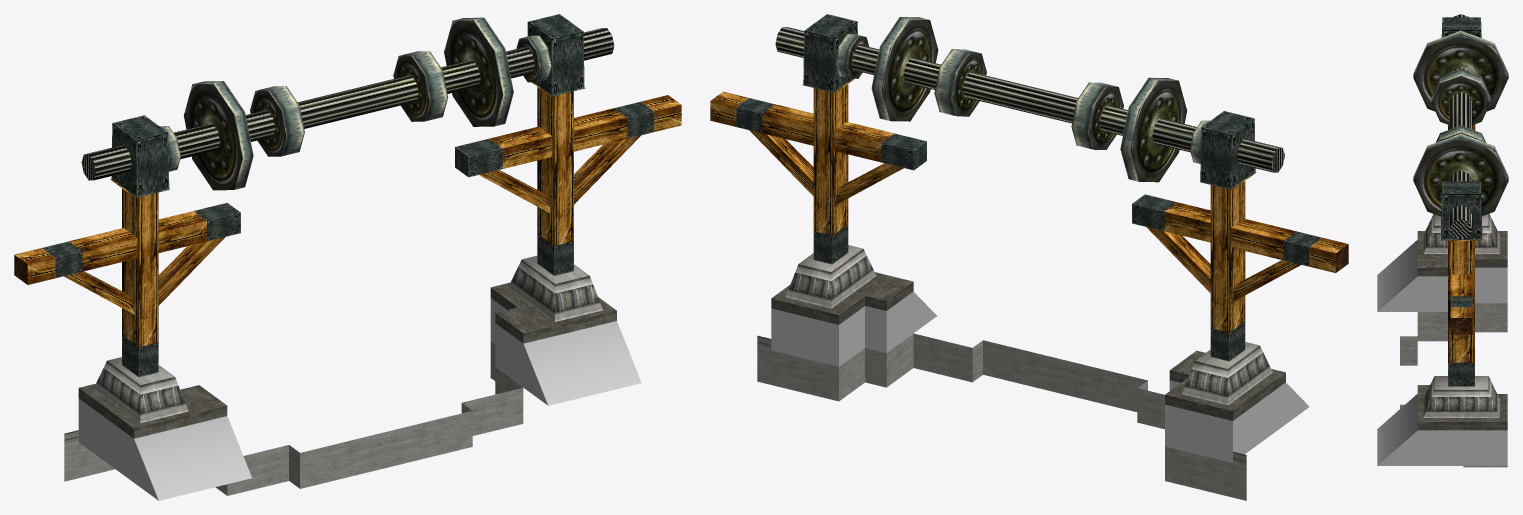
File: DWARF_PALACE_FORGE_STAIRSD.obj
3 views of the same model, side by side, from view 1: azimuth 30°, elevation 25°; view 2: azimuth 150°, elevation 25°; view 3: azimuth 270°, elevation 25° (orthographic). The views are drawn at different scales.
Visible parts, largest first — view 1: forge_stairsD; view 2: forge_stairsD; view 3: forge_stairsD.
Boxes of the visible parts, x1,y1,x2,y2 form: forge_stairsD: (14,14,681,500); forge_stairsD: (710,14,1348,500); forge_stairsD: (1377,14,1508,467).
Size of the model in its own units: 2276 by 1295 by 488.
